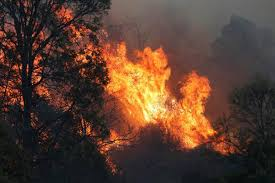fire: (106, 45, 223, 151), (4, 15, 102, 132)
smoke: (118, 5, 254, 41)
